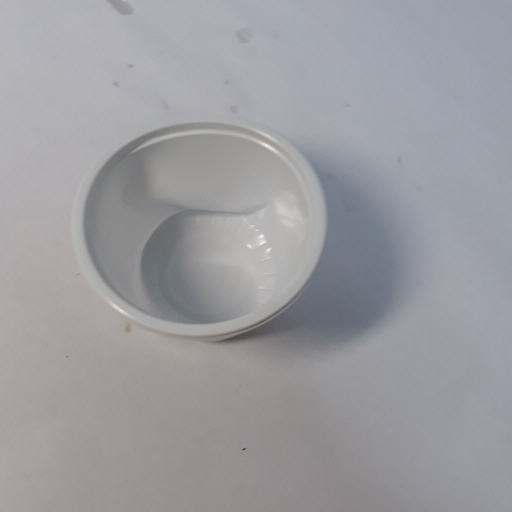Plastic_5: (70, 117, 331, 346)
